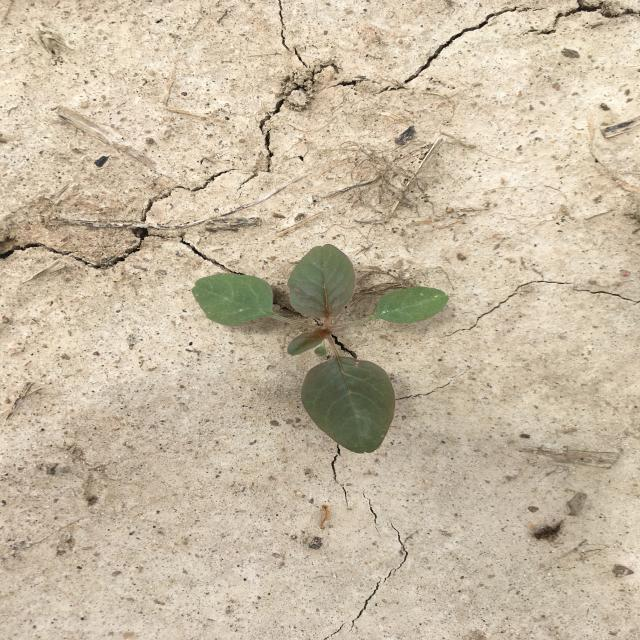PalmerAmaranth: (192, 244, 448, 453)
